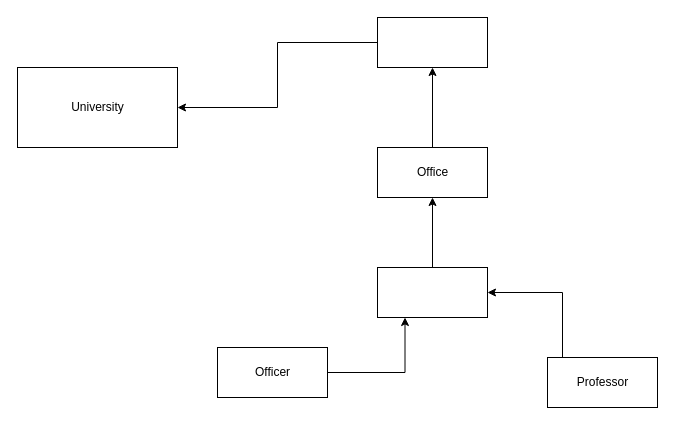
Image size: 675x425. Some labels were removed from this diagram. Here are the shapes that lost their labels. From the top down, the box of each, then its label:
(376, 16, 488, 68): Department
(376, 266, 488, 318): Employee
